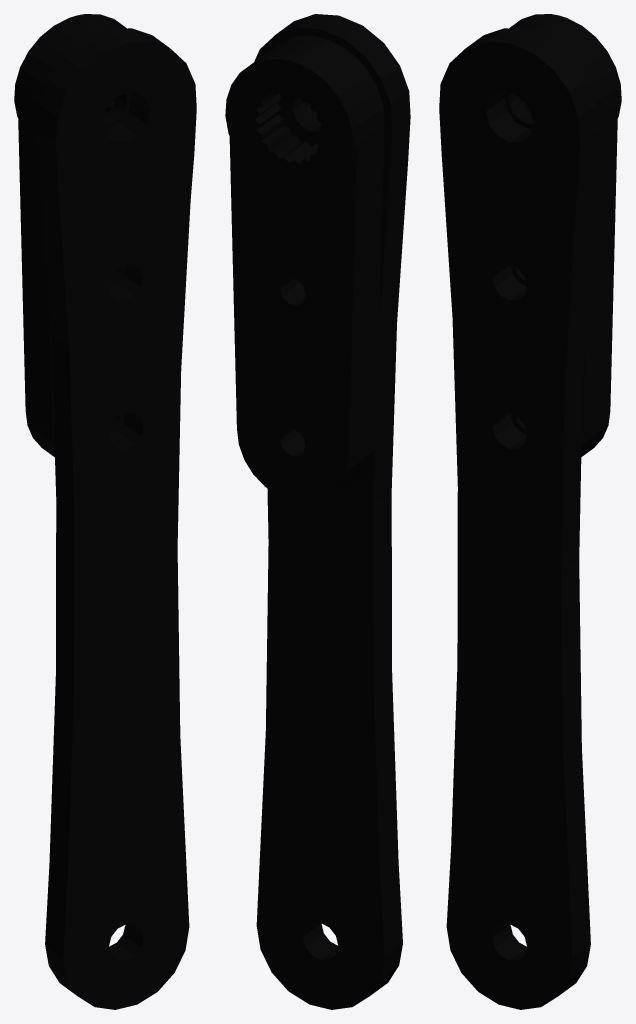
3 views of the same model, side by side, from view 1: azimuth 30°, elevation 25°; view 2: azimuth 150°, elevation 25°; view 3: azimuth 330°, elevation 25° (orthographic).
Visible parts, largest first — view 1: rb2; view 2: rb2; view 3: rb2.
Part boxes in pixels (x1,y1,x2,y2): rb2: [14, 14, 196, 1009]; rb2: [225, 14, 410, 1009]; rb2: [439, 14, 621, 1009].
Size of the model in its own units: 0.00894 by 0.0054 by 0.0584.
1 material, 1 textured.
